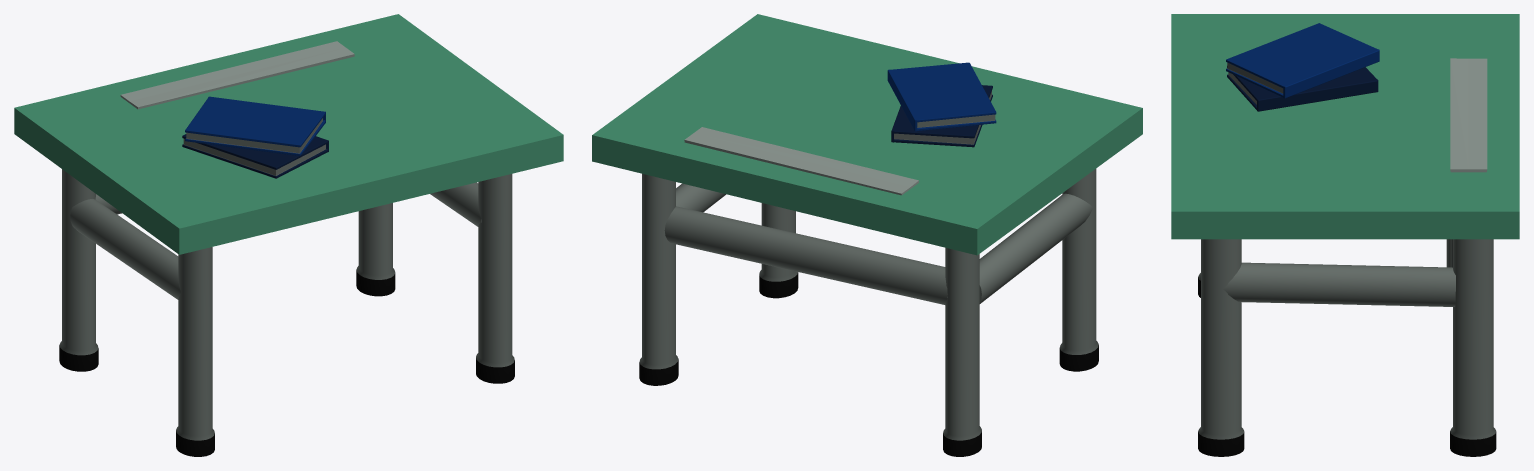
The model's file is taple.fbx.
The picture shows the model from 3 angles, left to right: view 1: azimuth 30°, elevation 25°; view 2: azimuth 150°, elevation 25°; view 3: azimuth 270°, elevation 25°; orthographic projection. The views are drawn at different scales.
Visible parts, largest first — view 1: pCube1, pCylinder4, pCylinder10, pCylinder9, pCylinder5 (×2), Couverture1, pCylinder7, pCylinder11, Couverture, Pages, Pages1; view 2: pCube1, pCylinder3, pCylinder9, pCylinder11, pCylinder4, pCylinder5 (×2), Couverture1, pCylinder7, pCylinder10, Couverture, Pages; view 3: pCube1, pCylinder5, pCylinder11, pCylinder10, Couverture1, pCylinder7, Couverture, Pages1.
Boxes of the visible parts, x1=… form: pCube1: x1=14, y1=14, x2=563, y2=254; pCylinder4: x1=176, y1=247, x2=214, y2=456; pCylinder10: x1=476, y1=174, x2=514, y2=383; pCylinder9: x1=59, y1=169, x2=98, y2=371; pCylinder5 (×2): x1=70, y1=182, x2=481, y2=299; Couverture1: x1=185, y1=96, x2=325, y2=156; pCylinder7: x1=120, y1=41, x2=354, y2=109; pCylinder11: x1=356, y1=203, x2=395, y2=296; Couverture: x1=182, y1=134, x2=328, y2=178; Pages: x1=183, y1=139, x2=325, y2=175; Pages1: x1=186, y1=118, x2=322, y2=153; pCube1: x1=592, y1=14, x2=1142, y2=255; pCylinder3: x1=664, y1=206, x2=947, y2=304; pCylinder9: x1=943, y1=247, x2=981, y2=456; pCylinder11: x1=639, y1=173, x2=678, y2=385; pCylinder4: x1=1059, y1=169, x2=1098, y2=371; pCylinder5 (×2): x1=676, y1=183, x2=1093, y2=303; Couverture1: x1=887, y1=62, x2=996, y2=131; pCylinder7: x1=684, y1=127, x2=918, y2=195; pCylinder10: x1=759, y1=203, x2=798, y2=298; Couverture: x1=891, y1=85, x2=992, y2=147; Pages: x1=894, y1=91, x2=991, y2=144; pCube1: x1=1171, y1=14, x2=1519, y2=239; pCylinder5: x1=1223, y1=262, x2=1455, y2=306; pCylinder11: x1=1450, y1=239, x2=1496, y2=456; pCylinder10: x1=1198, y1=239, x2=1244, y2=456; Couverture1: x1=1226, y1=23, x2=1379, y2=98; pCylinder7: x1=1450, y1=58, x2=1487, y2=172; Couverture: x1=1227, y1=66, x2=1378, y2=111; Pages1: x1=1227, y1=62, x2=1283, y2=93.
Bounding box in the file's own units: 1.34 × 0.9188 × 1.
